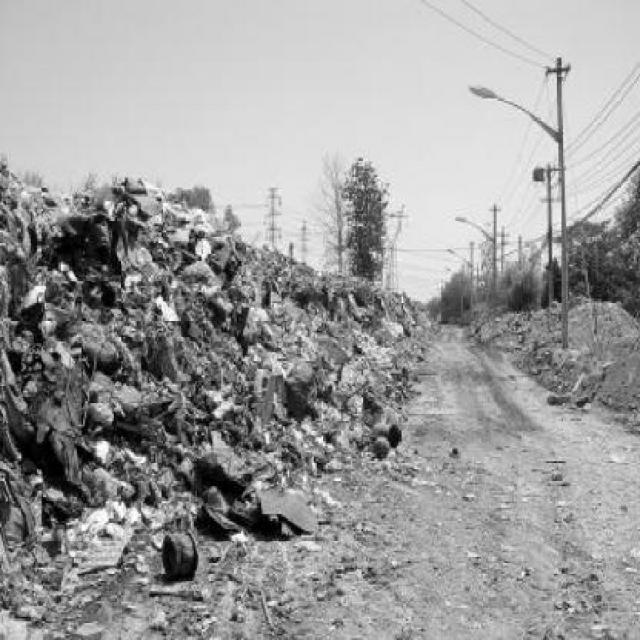garbage: (0, 209, 352, 570), (482, 302, 636, 400), (0, 160, 157, 224), (354, 286, 402, 452), (405, 303, 433, 376)
